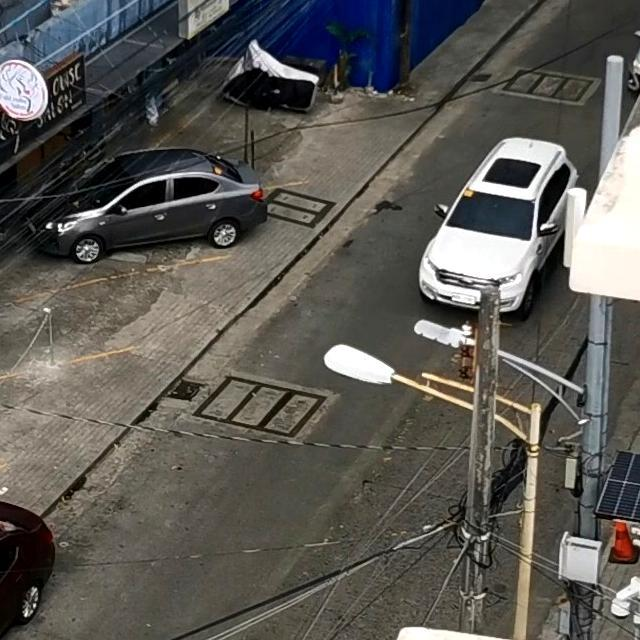Car: (413, 136, 574, 318), (28, 148, 258, 262), (624, 6, 640, 98)
